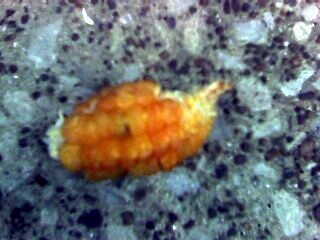corn: (44, 80, 232, 182)
